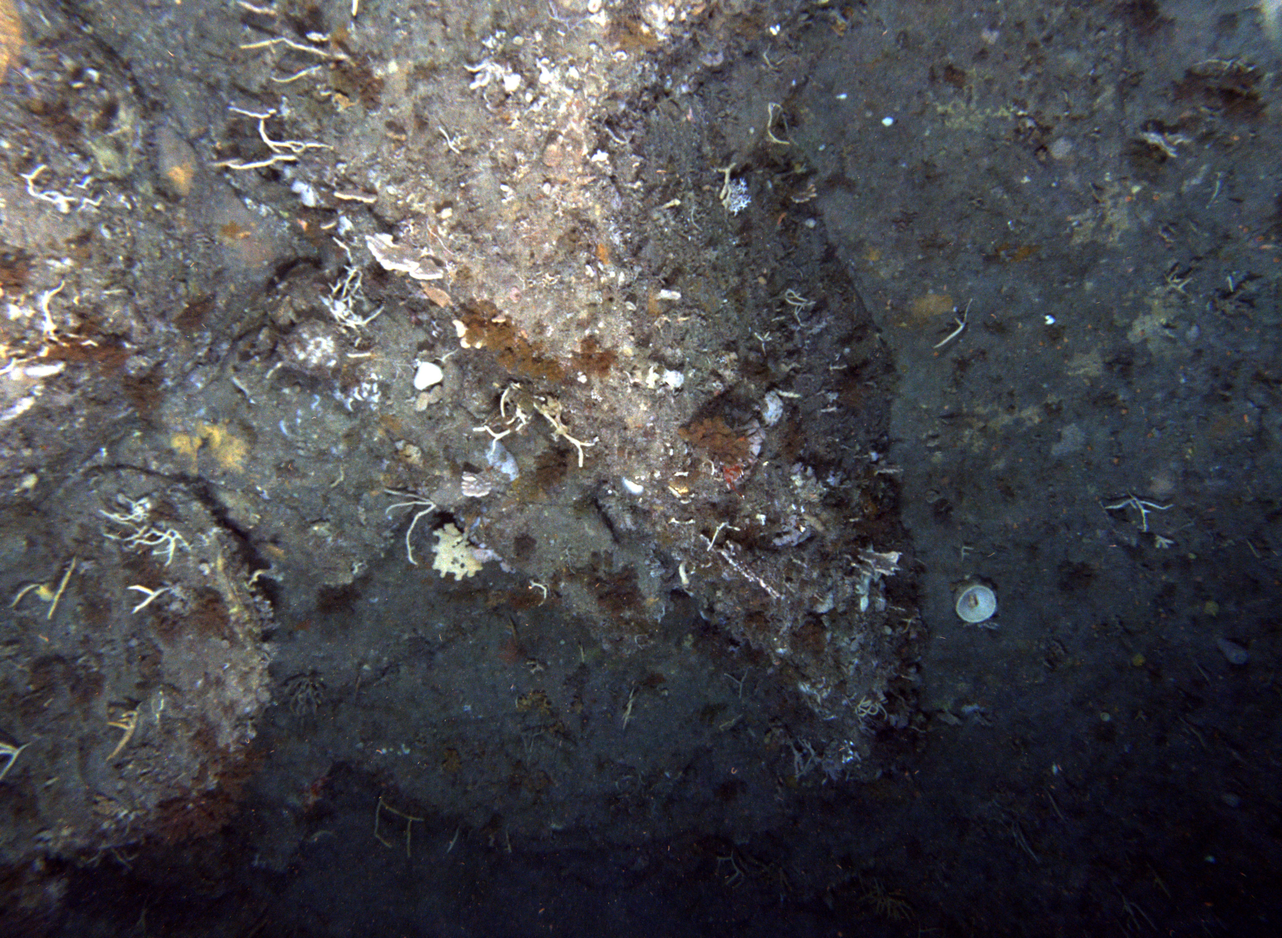Brachionichthyidae: (405, 308, 424, 328)
